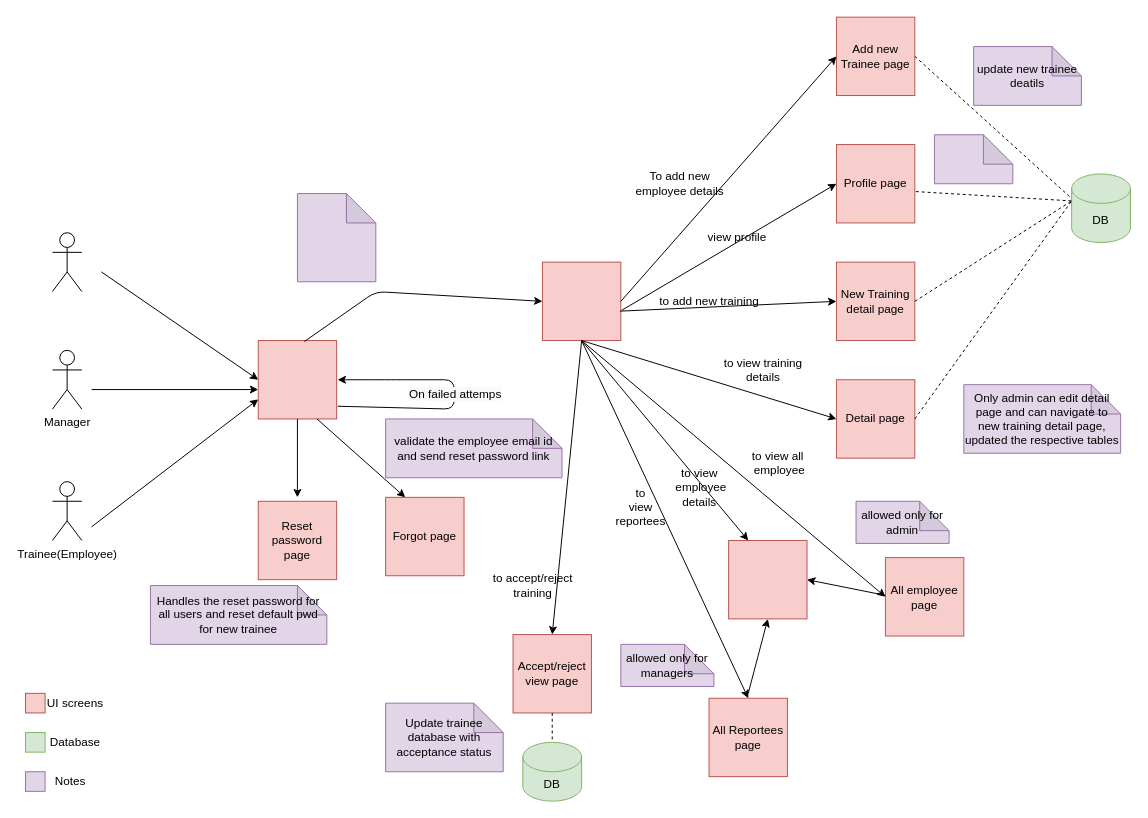
This 1148x818 diagram has some shape labels left out. Each missing label, with the centre of its shape:
Admin(HR): point (66, 262)
Employee detail page: point (767, 579)
Home Screen: point (581, 301)
Login Page: point (297, 379)
On success login: point (336, 237)
save the profile picture: point (973, 159)
